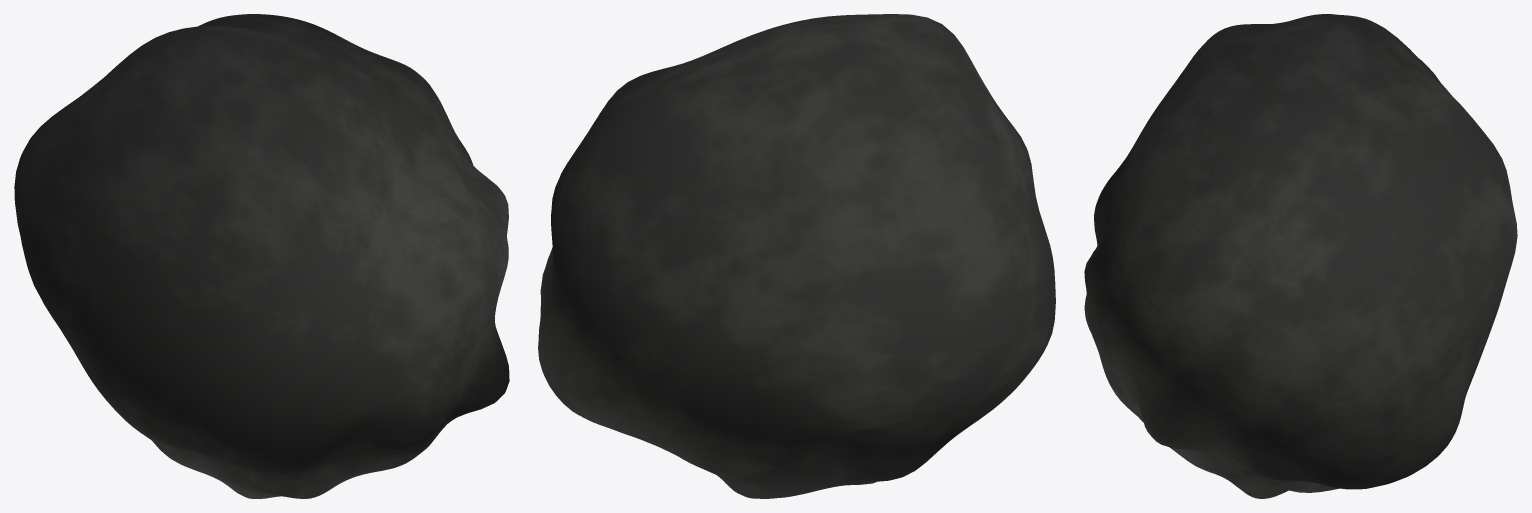
File: asteroid-lump.glb
The picture shows the model from 3 angles, left to right: view 1: azimuth 30°, elevation 25°; view 2: azimuth 150°, elevation 25°; view 3: azimuth 270°, elevation 25°; orthographic projection. The views are drawn at different scales.
Visible parts, largest first — view 1: asteroid_5002; view 2: asteroid_5002; view 3: asteroid_5002.
Boxes of the visible parts, x1=… form: asteroid_5002: x1=14, y1=14, x2=509, y2=498; asteroid_5002: x1=538, y1=14, x2=1055, y2=498; asteroid_5002: x1=1084, y1=14, x2=1517, y2=498.
Bounding box in the file's own units: 73.06 × 73.07 × 66.62.
1 material, 1 textured.
